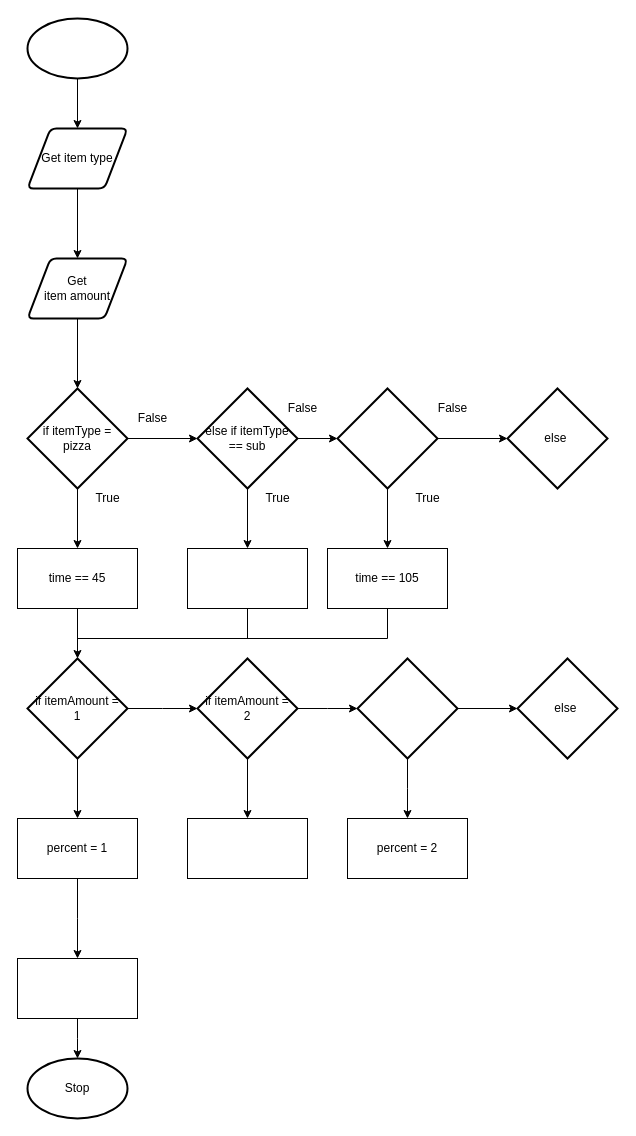
Some shapes in this 636 by 1136 pixel diagram are drawn without their labels. Here are the shapes that lost their labels. From the top down, the centre of each, then its label:
pixel 77 48: Start
pixel 387 438: else if itemType == soup
pixel 247 578: time == 60
pixel 407 708: if itemAmount = 3
pixel 247 848: percent = 1.5
pixel 77 988: answer = time * percent
